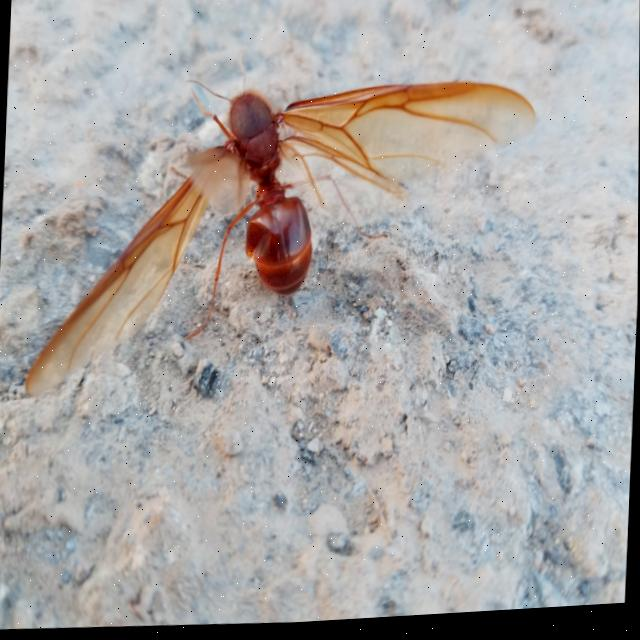Alive-Male-Alate: (25, 34, 541, 415)
